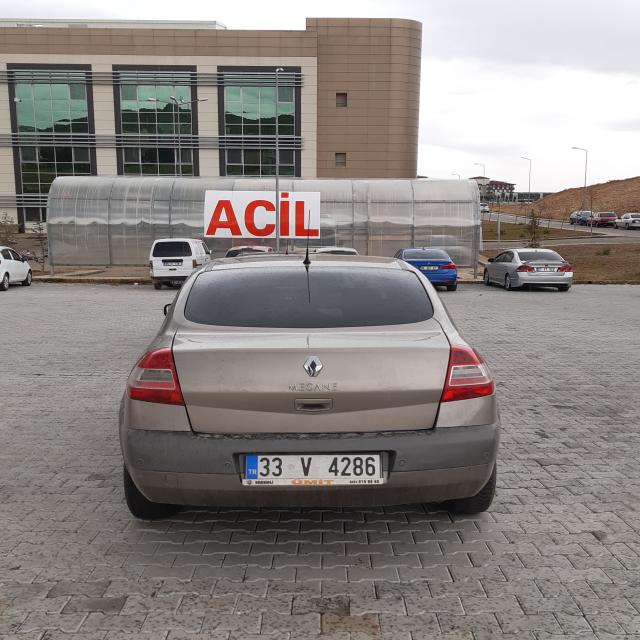license_plate: (246, 456, 382, 477)
